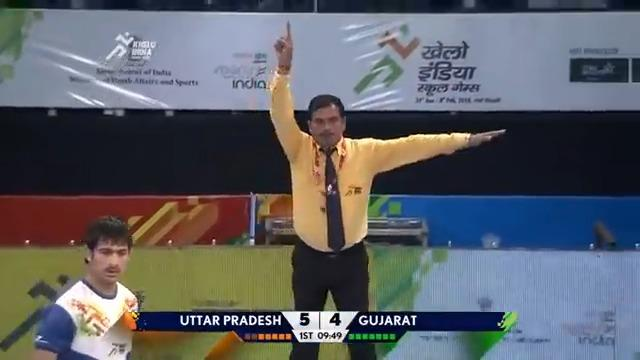Player: (32, 214, 143, 359)
referee: (265, 19, 506, 358)
